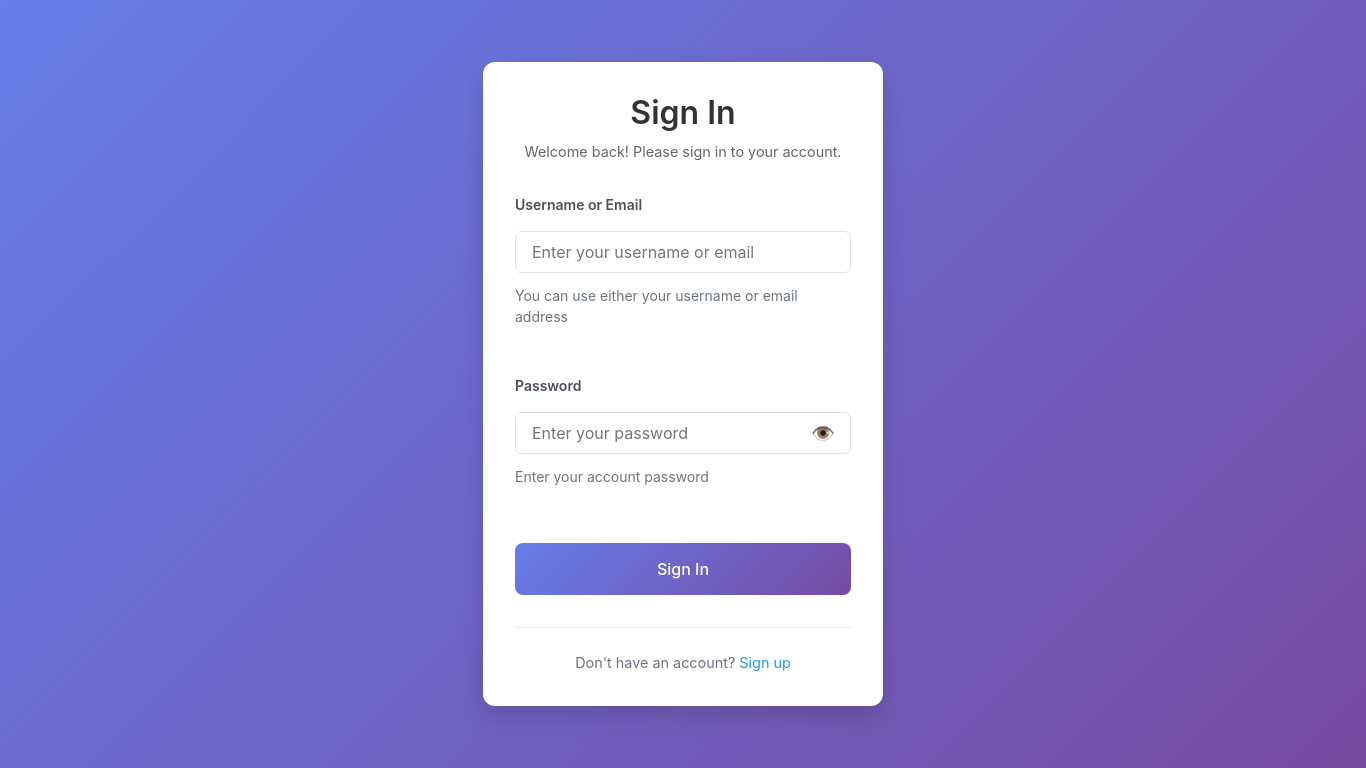
Test case: Login Component › validates required fields on submit
Step 1. Click the button "Sign In" → click(683, 569), box 515,543 -> 851,595
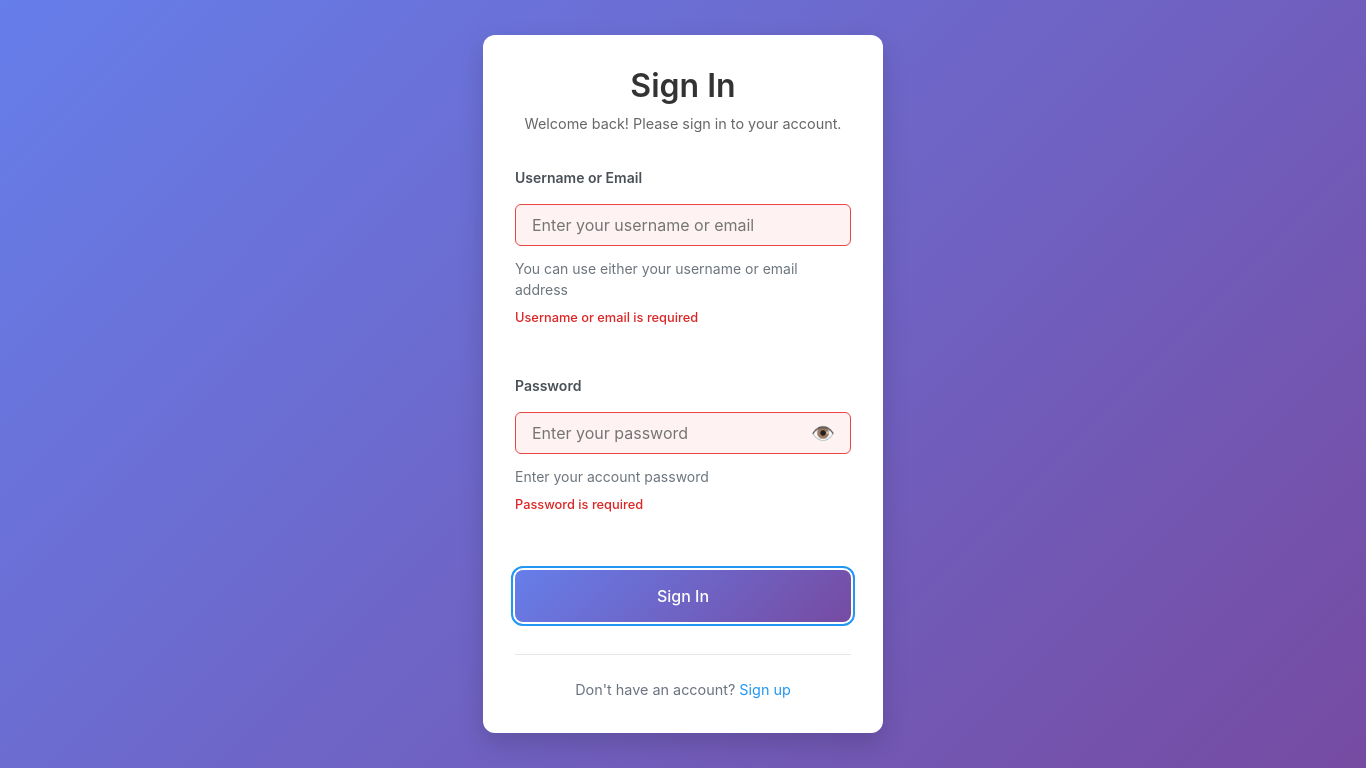
Expected: the text "Username or email is required" is shown, 515,310 -> 698,325
Expected: the text "Password is required" is shown, 515,497 -> 643,512
